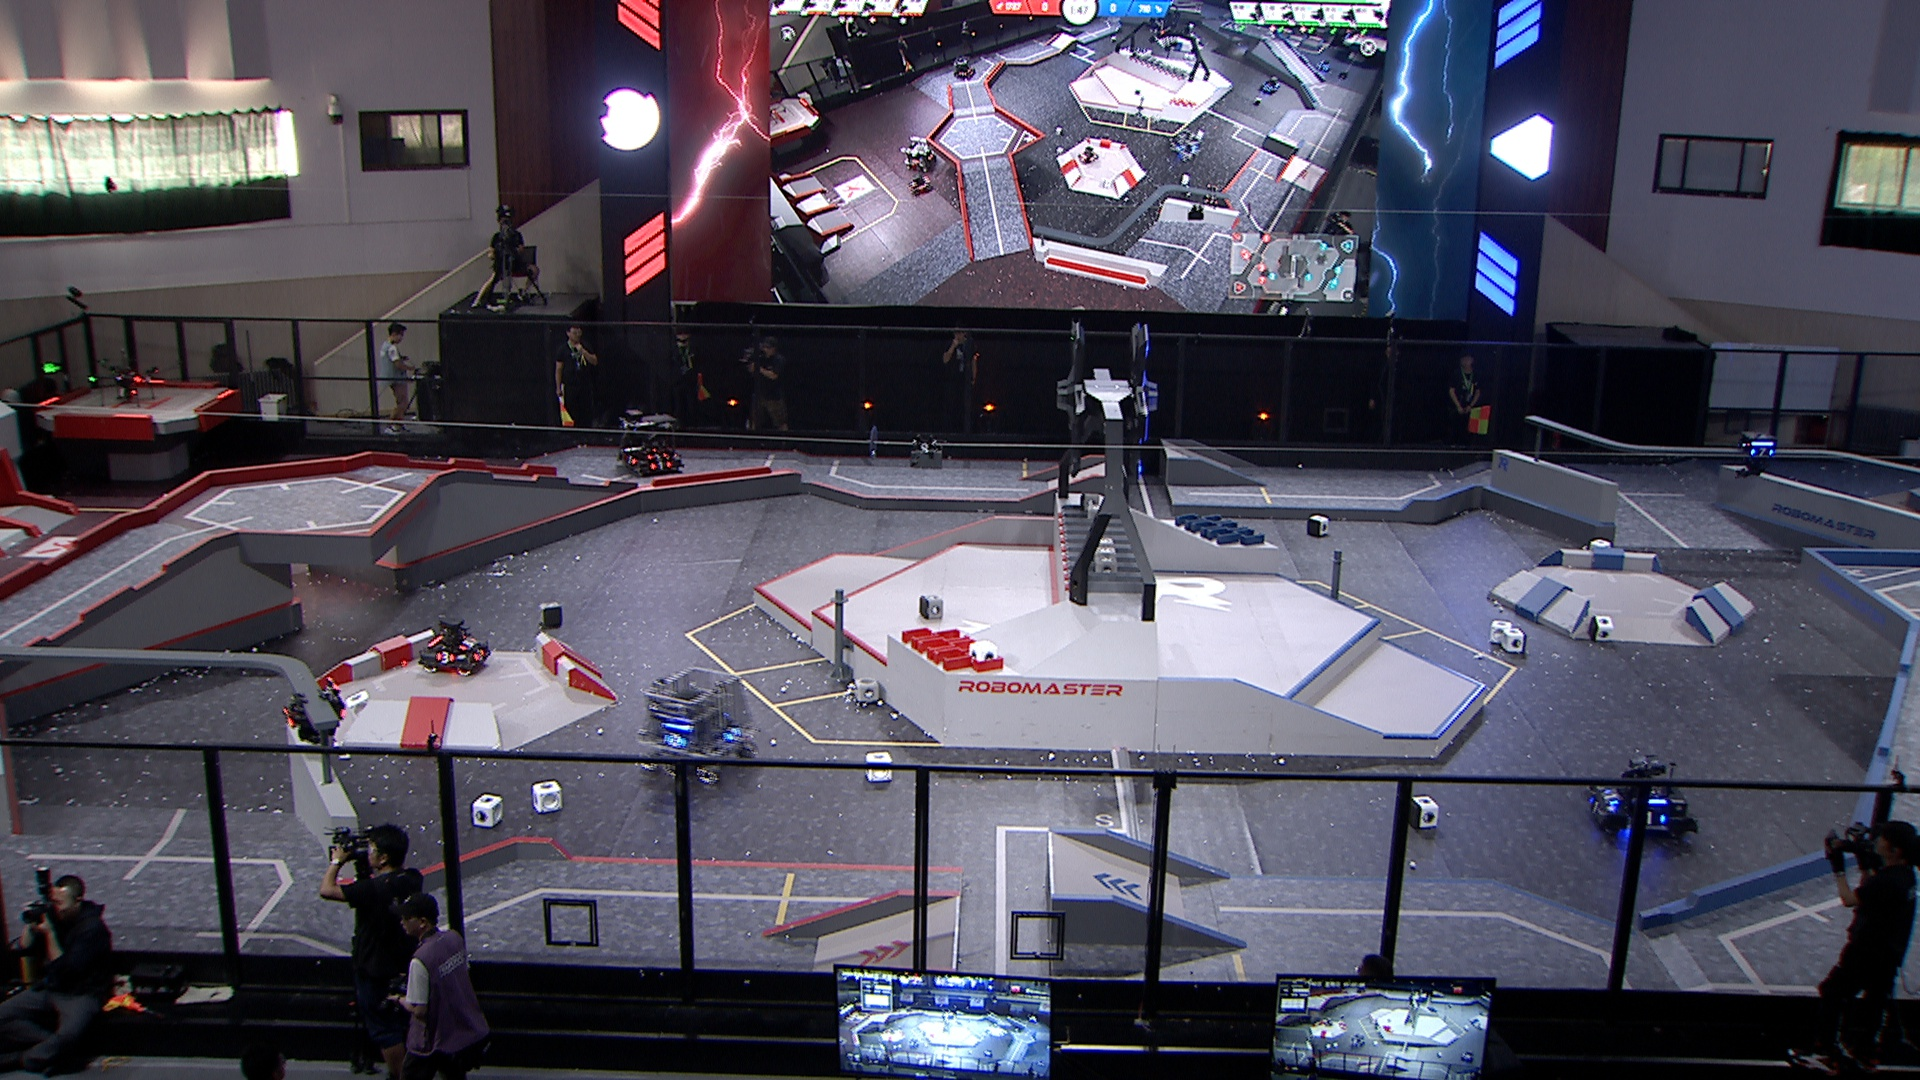armor: (661, 731, 690, 750), (1642, 808, 1667, 825), (723, 727, 744, 744), (281, 707, 295, 731), (1602, 789, 1619, 808), (1588, 798, 1604, 818), (434, 650, 455, 665), (458, 636, 476, 651), (1749, 447, 1775, 458), (471, 647, 487, 662), (647, 451, 669, 462), (651, 462, 673, 472), (624, 454, 640, 467)
car: (638, 666, 764, 789), (1585, 756, 1700, 843), (615, 410, 684, 480), (419, 617, 495, 678)
ignore: (899, 136, 938, 173), (1168, 128, 1203, 161), (907, 174, 936, 196), (1200, 181, 1221, 207), (953, 55, 975, 80), (1079, 142, 1100, 164), (1259, 76, 1280, 95), (1313, 59, 1333, 73)
watcher: (280, 678, 345, 749), (1735, 433, 1780, 479)
